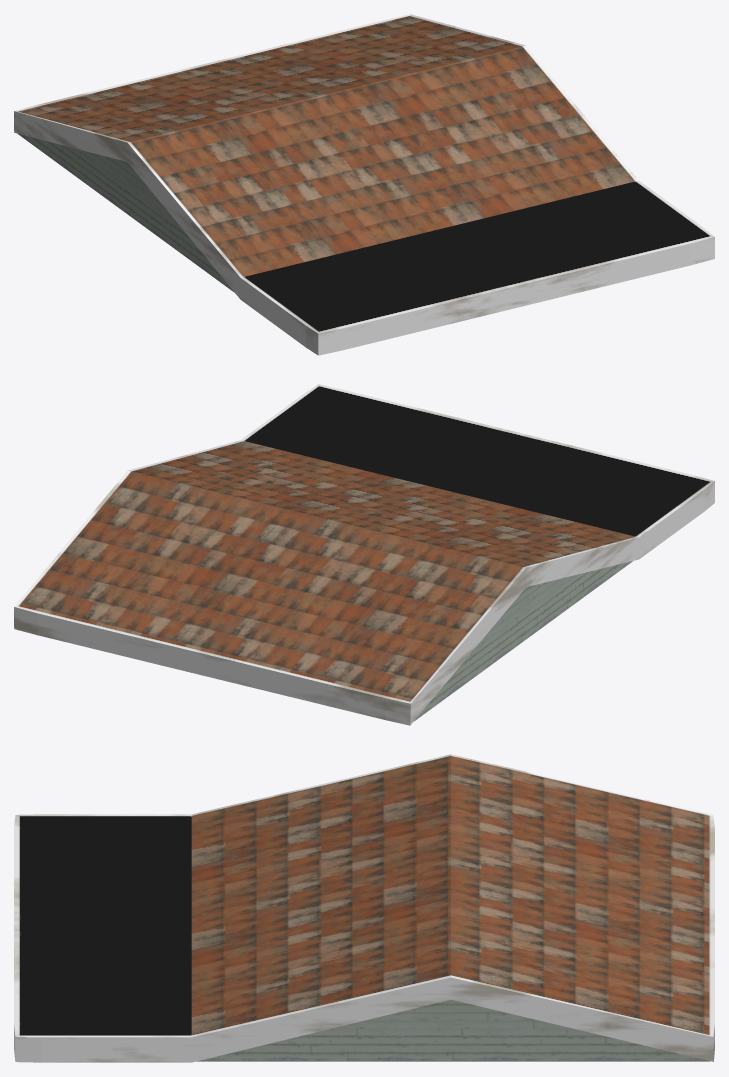
The model's file is UnitRoof.glb.
The picture shows the model from 3 angles, top to bottom: view 1: azimuth 30°, elevation 25°; view 2: azimuth 150°, elevation 25°; view 3: azimuth 270°, elevation 25°; orthographic projection. The views are drawn at different scales.
Parts seen in each view (by area): view 1: RoofLT; view 2: RoofLT; view 3: RoofLT.
Boxes of the visible parts, box(x1,y1,x2,y2) form: RoofLT: box(14, 14, 714, 355); RoofLT: box(14, 384, 714, 725); RoofLT: box(14, 754, 714, 1062).
Bounding box in the file's own units: 5.58 × 1 × 7.41.
Materials: 5 (5 with a texture image).
